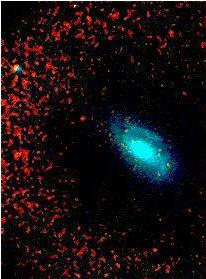star: (67, 102, 97, 132)
